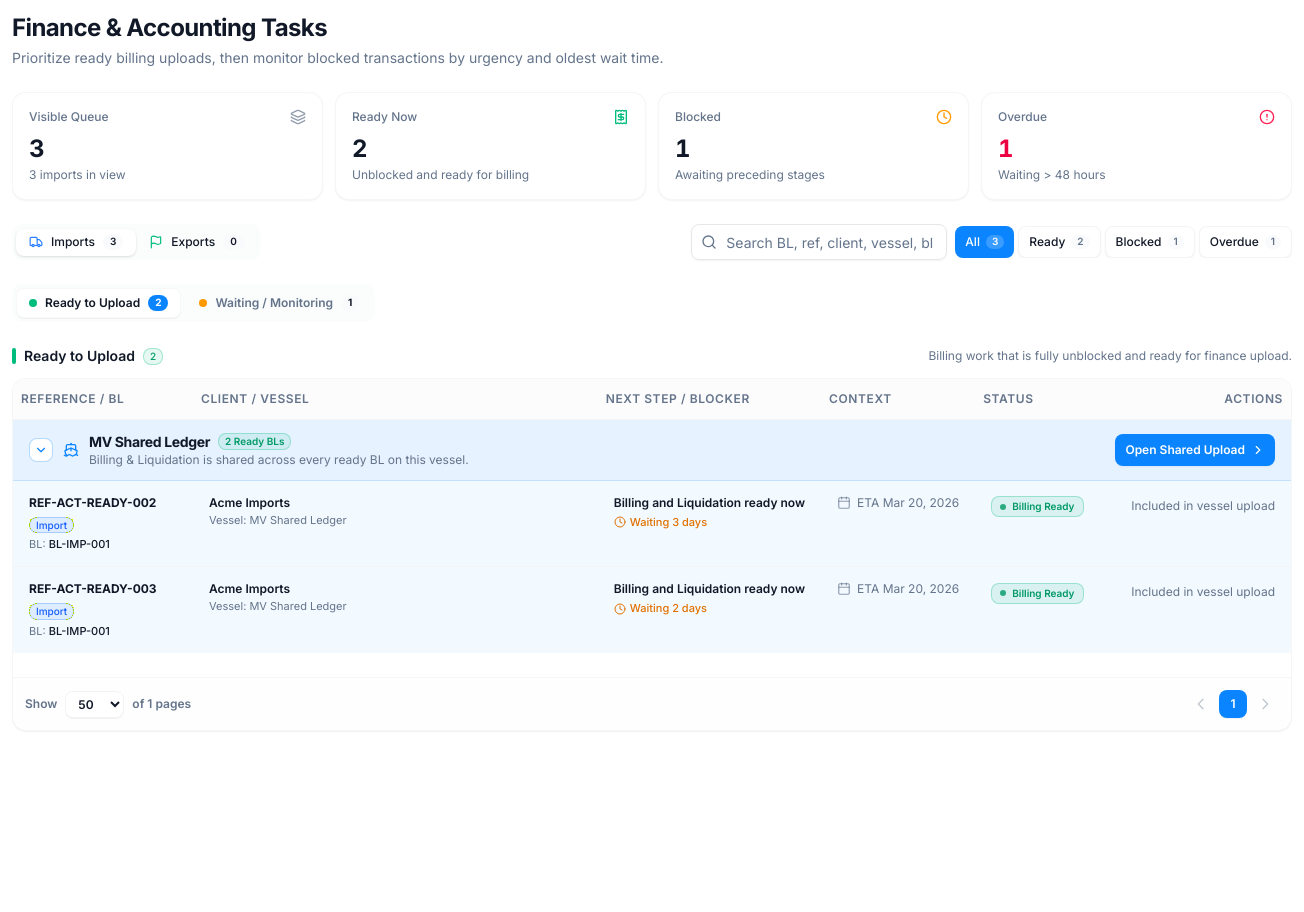
AccountingImpExpPage › displays compact billing rows and supports queue filtering
Expected: the text "REF-ACT-READY-002" is shown, x1=29 y1=494 x2=156 y2=510
Expected: the text "Vessel: MV Shared Ledger" below "REF-ACT-READY-002" is shown, x1=209 y1=512 x2=347 y2=526
Click the button "Overdue 1".
click(1245, 242)  # box x1=1199 y1=226 x2=1292 y2=258
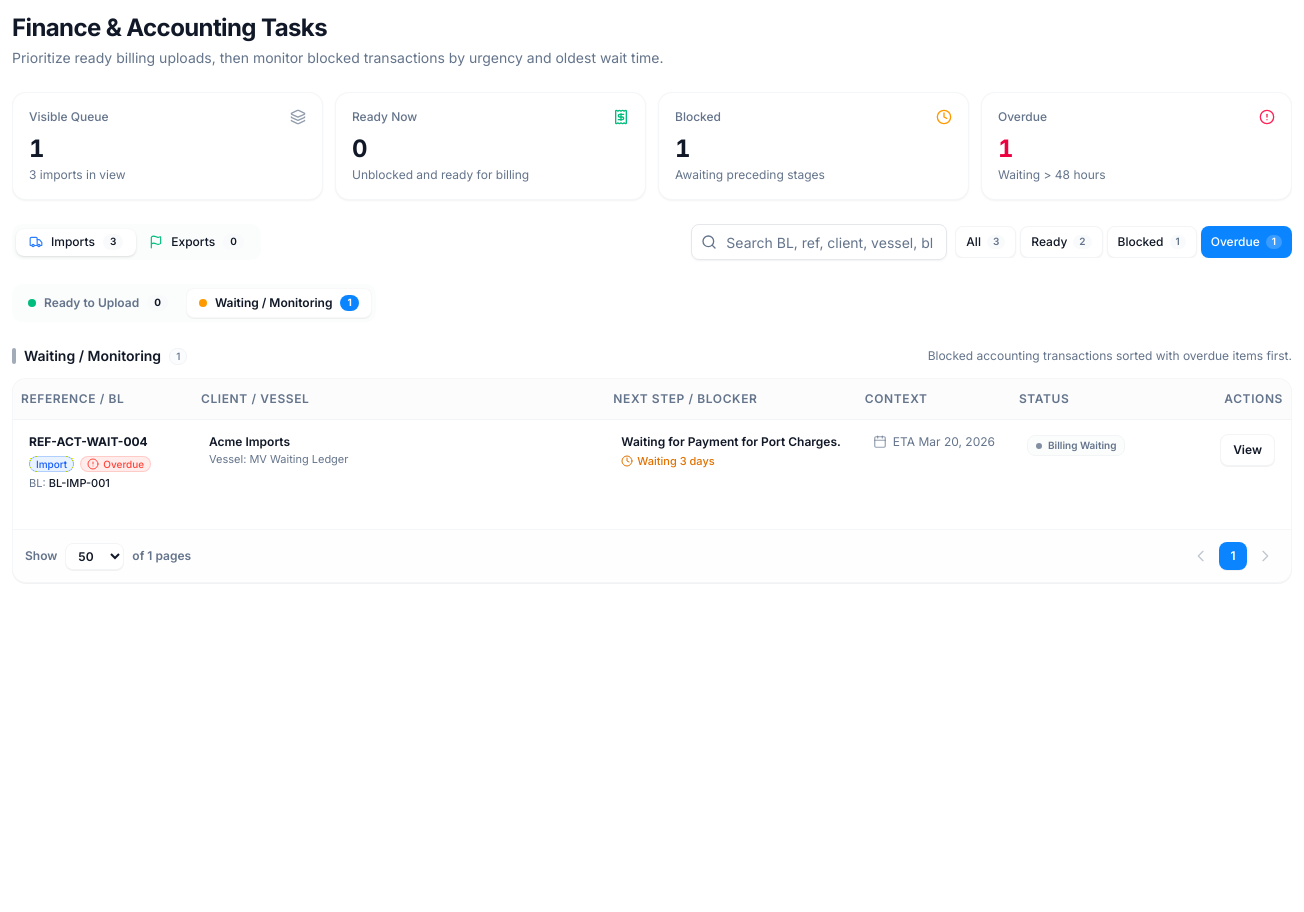
Now the text "REF-ACT-WAIT-004" is shown, box x1=29 y1=434 x2=148 y2=450
Now the text "Billing Waiting" is shown, box x1=1027 y1=435 x2=1126 y2=456
Now the text "Waiting for Payment for Port Charges." is shown, box x1=621 y1=434 x2=841 y2=450
Click the button "Ready to Upload 0".
click(98, 303)  # box x1=16 y1=289 x2=180 y2=317
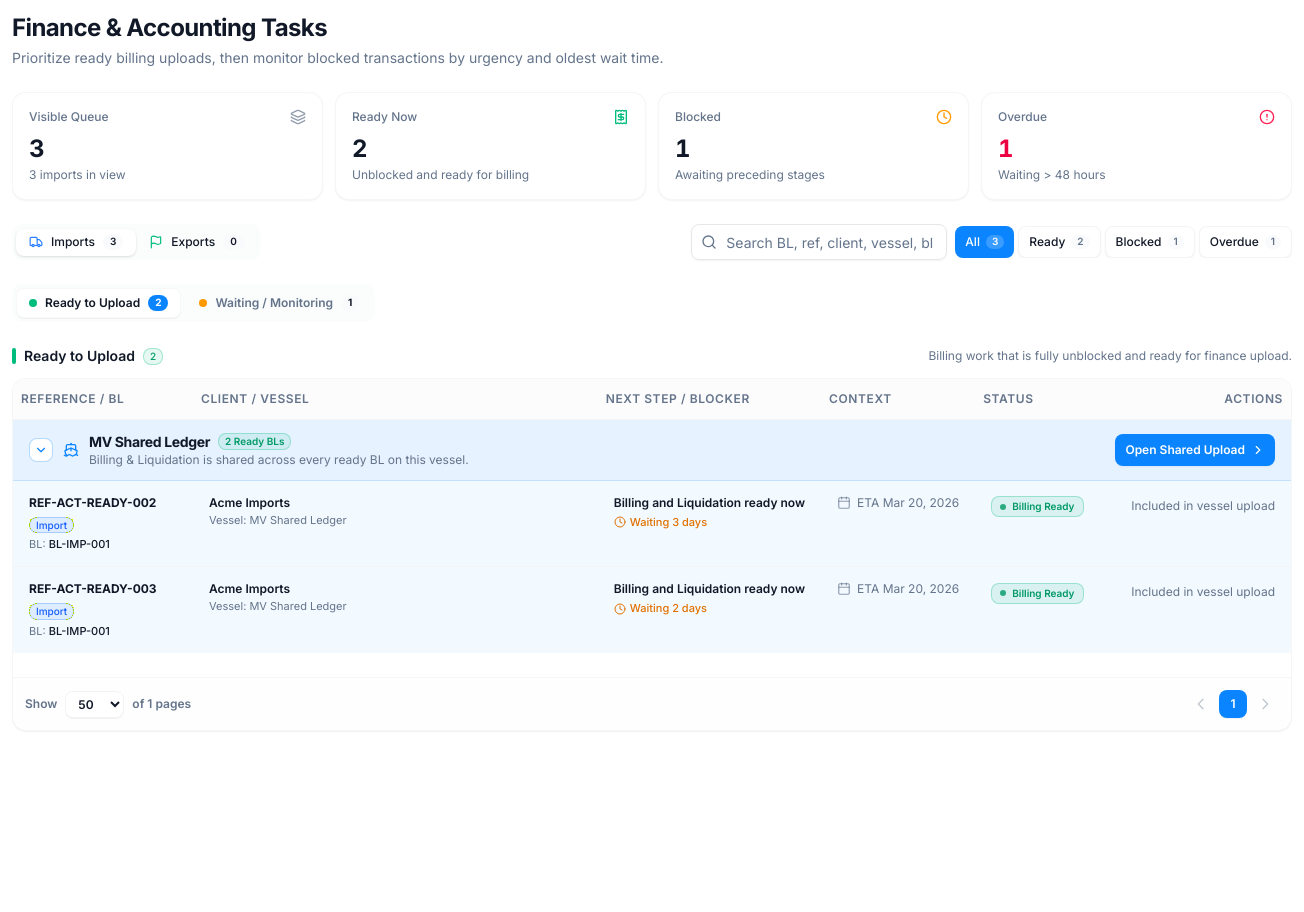
Type "Shared Ledger" into the field with placeholder "Search BL, ref, client, vessel, blocker...".
click(819, 242); type("Shared Ledger")  # box x1=691 y1=224 x2=947 y2=260
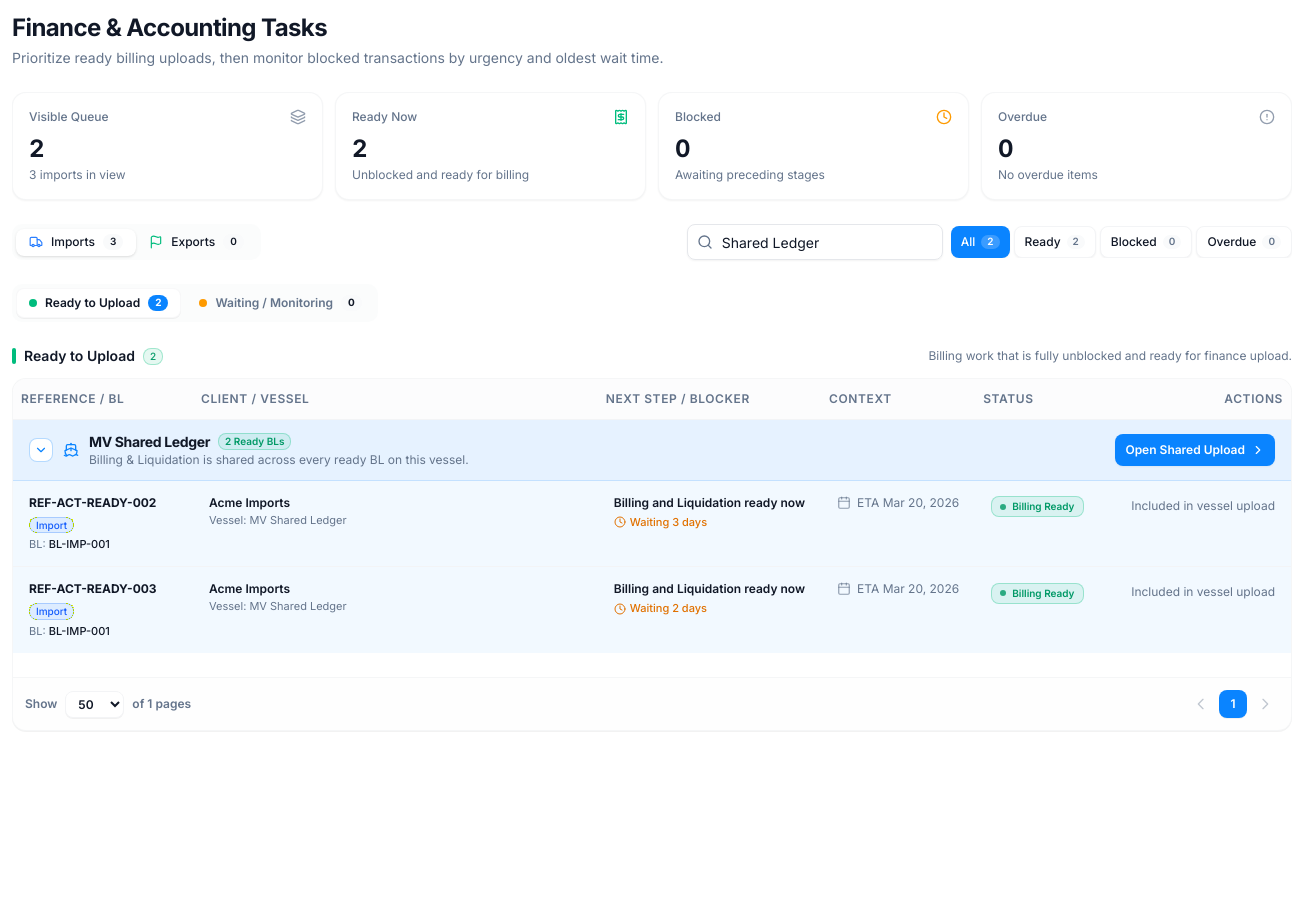
Now the text "REF-ACT-READY-002" is shown, box x1=29 y1=494 x2=156 y2=510
Click the button named "collapse mv shared ledger shared vessel group".
click(41, 450)  # box x1=29 y1=438 x2=53 y2=462
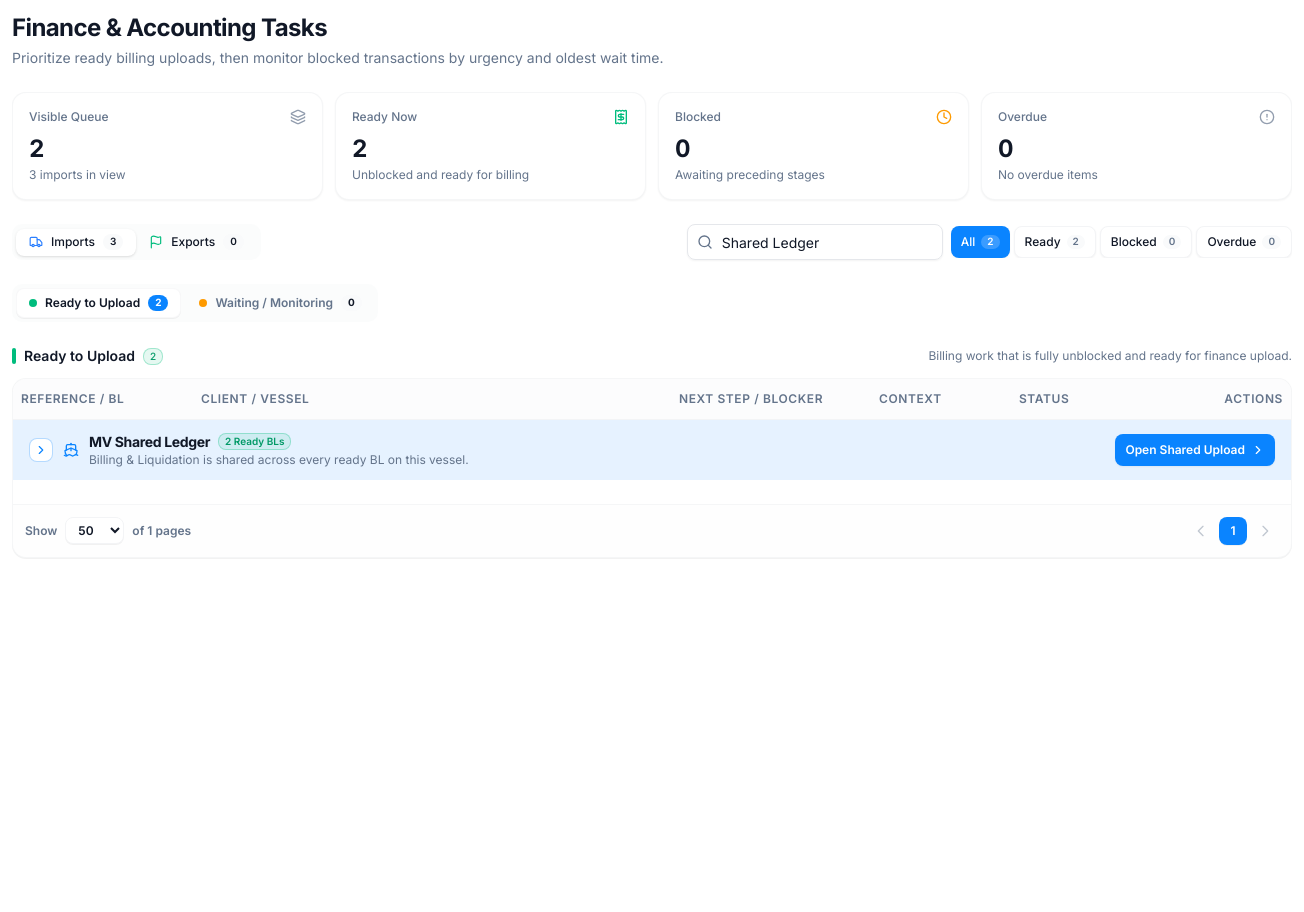
Now the text "REF-ACT-READY-002" is gone
Click the button named "expand mv shared ledger shared vessel group".
click(41, 450)  # box x1=29 y1=438 x2=53 y2=462
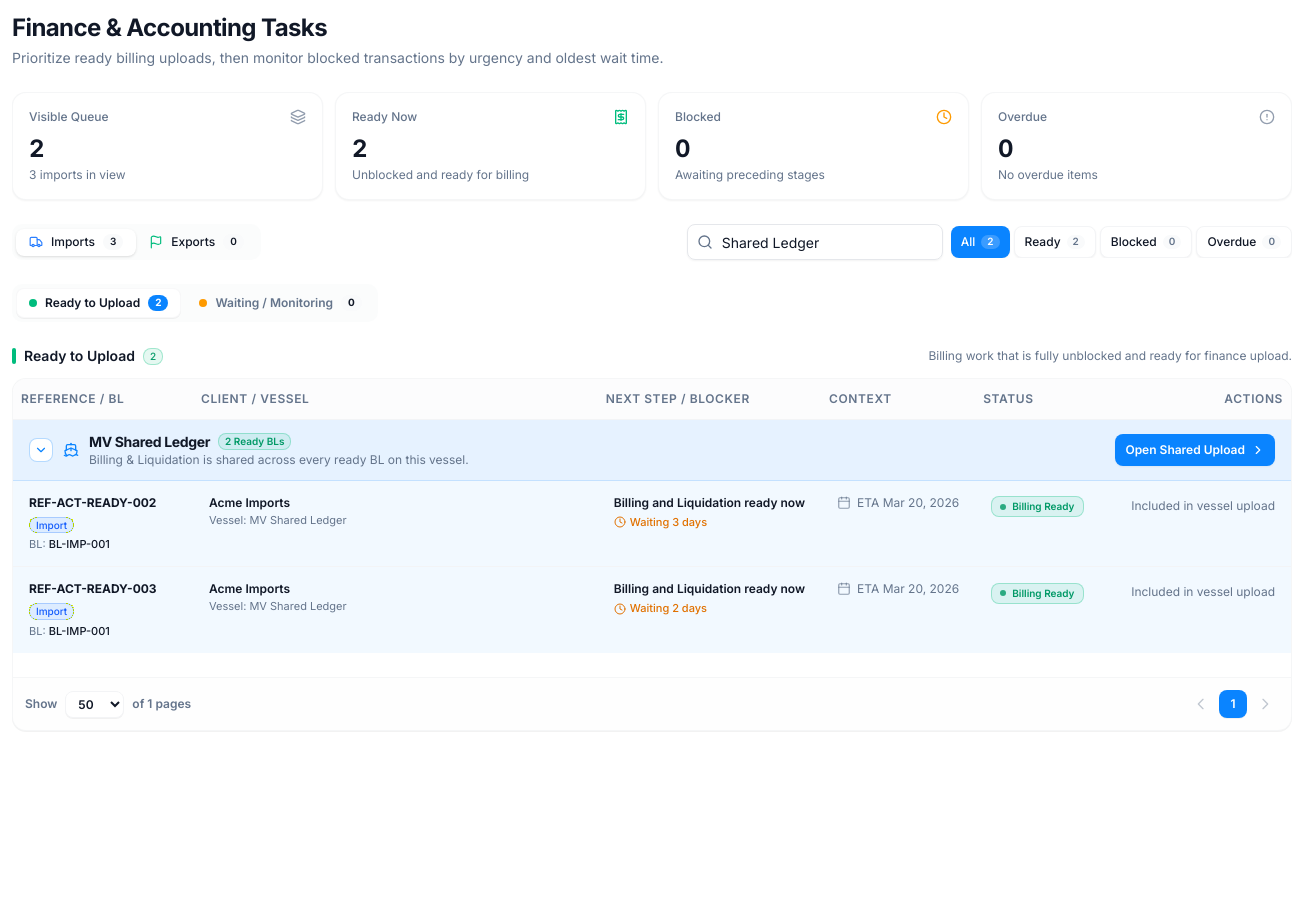
Now the text "REF-ACT-READY-002" is shown, box x1=29 y1=494 x2=156 y2=510
